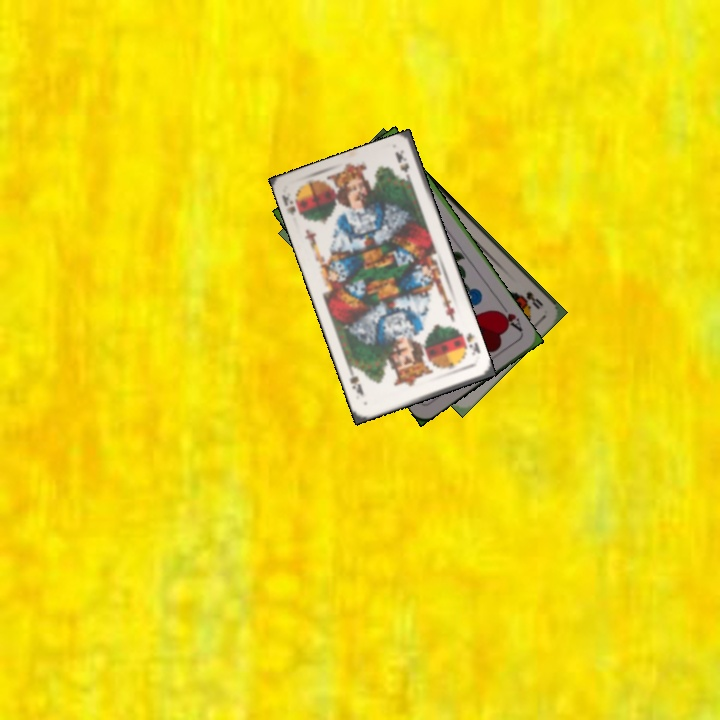HA: (493, 301, 525, 336)
SK: (462, 329, 483, 358), (278, 191, 298, 218)
SO: (516, 287, 546, 312)
